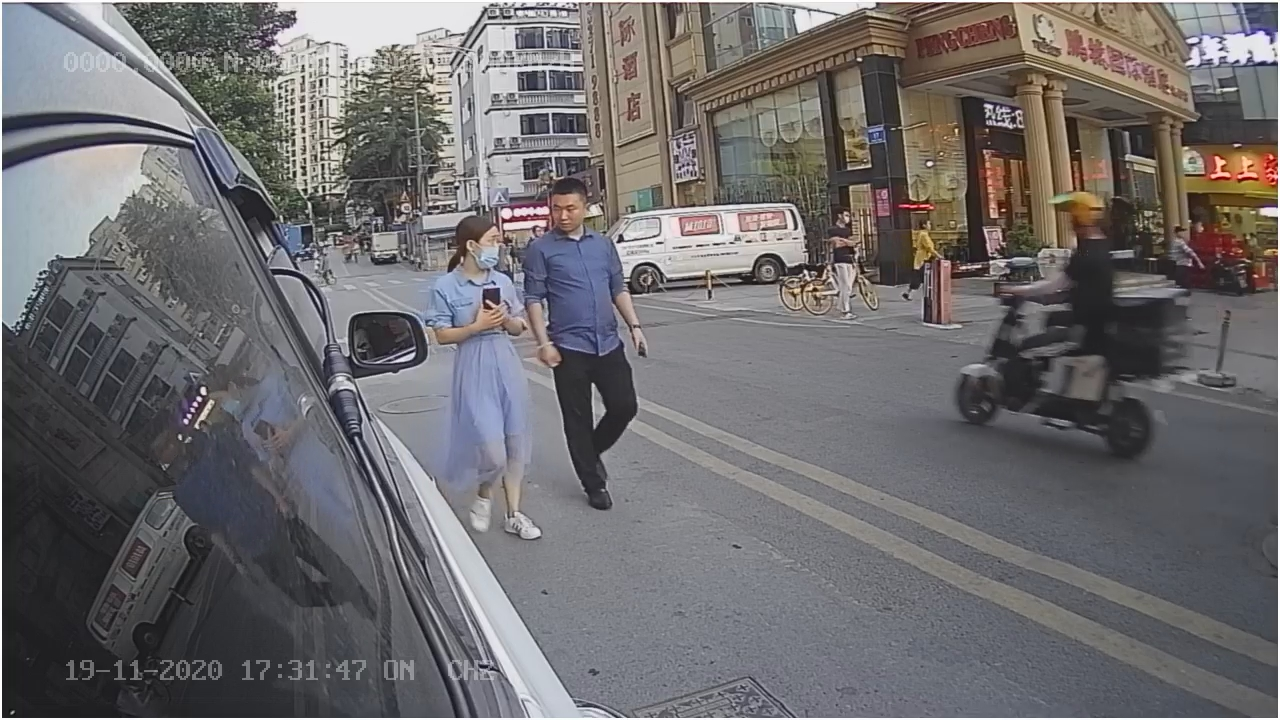person: (432, 211, 546, 446)
